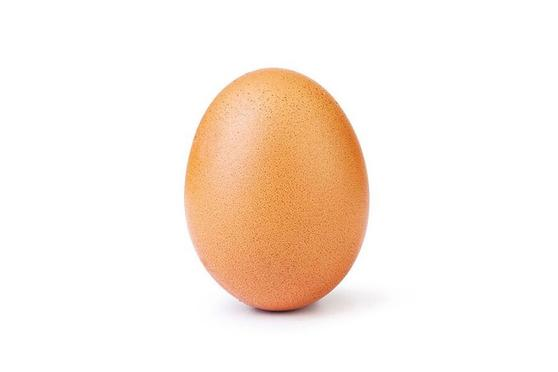egg: (184, 66, 375, 316)
